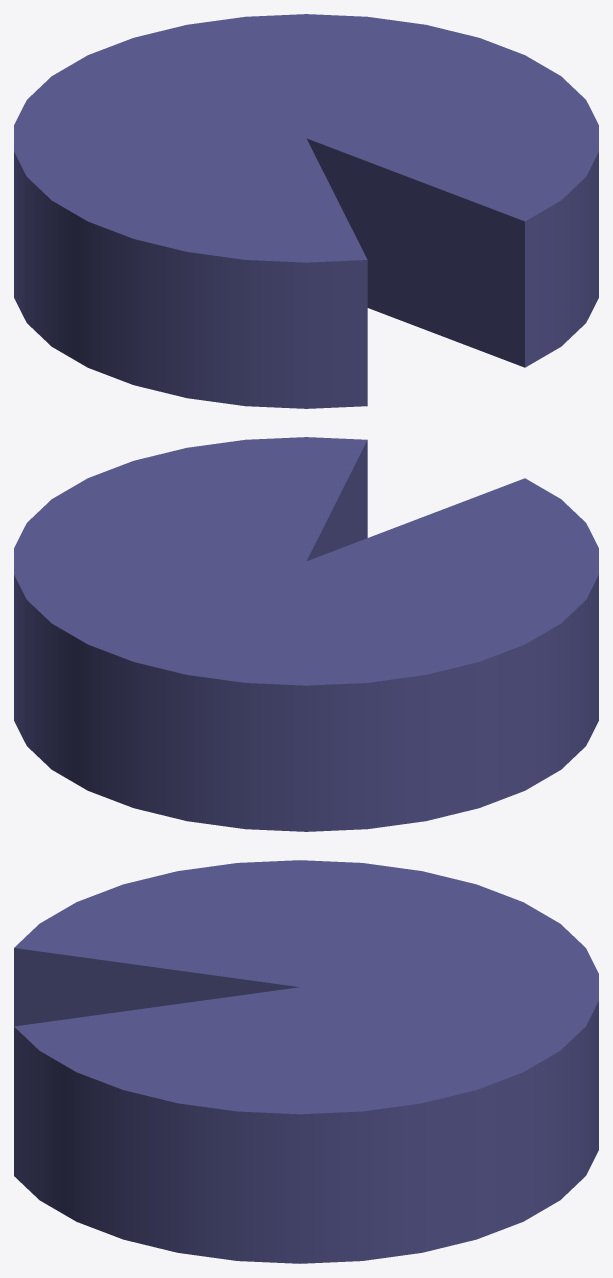
Rendered from HelixJumpV1.fbx.
The picture shows the model from 3 angles, top to bottom: view 1: azimuth 30°, elevation 25°; view 2: azimuth 150°, elevation 25°; view 3: azimuth 270°, elevation 25°; orthographic projection. The views are drawn at different scales.
Parts seen in each view (by area): view 1: v1; view 2: v1; view 3: v1.
Boxes of the visible parts, x1,y1,x2,y2 form: v1: (14,14,598,408); v1: (14,437,598,831); v1: (14,860,598,1263).
Bounding box in the file's own units: 532 × 146 × 518.
